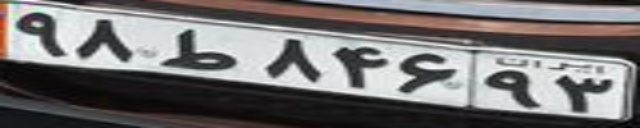3: (555, 74, 611, 113)
4: (332, 46, 387, 88)
6: (393, 52, 456, 95)
8: (261, 38, 320, 83), (74, 18, 129, 61)
9: (13, 11, 63, 57), (481, 69, 539, 108)
taa: (158, 28, 238, 72)
